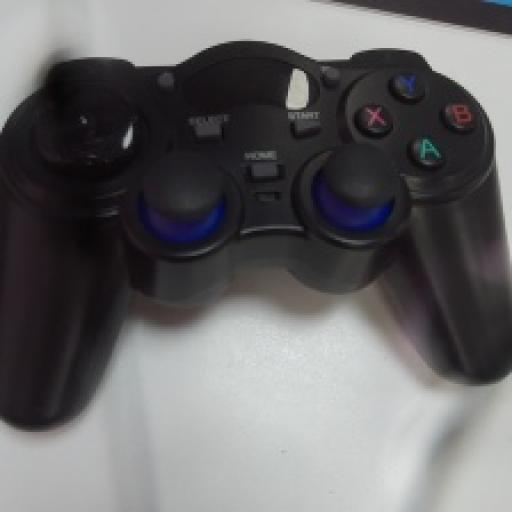game pad: (0, 41, 510, 423)
